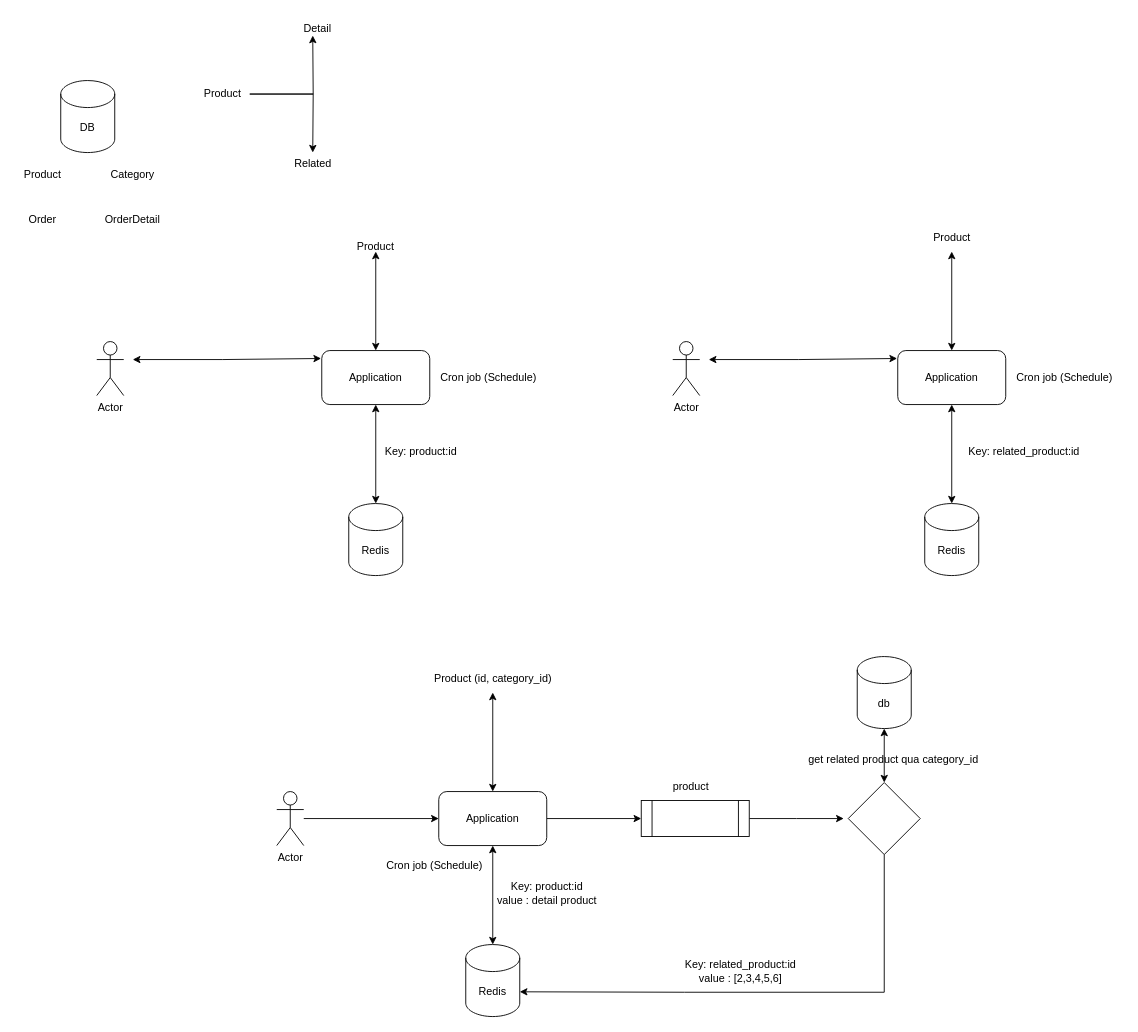
This 1138x1032 diagram has some shape labels left out. Here are the shapes that lost their labels. From the top down, the centre of each, then its label:
At [694,818]: "queue redis".
At [883,818]: "process (thread)".
